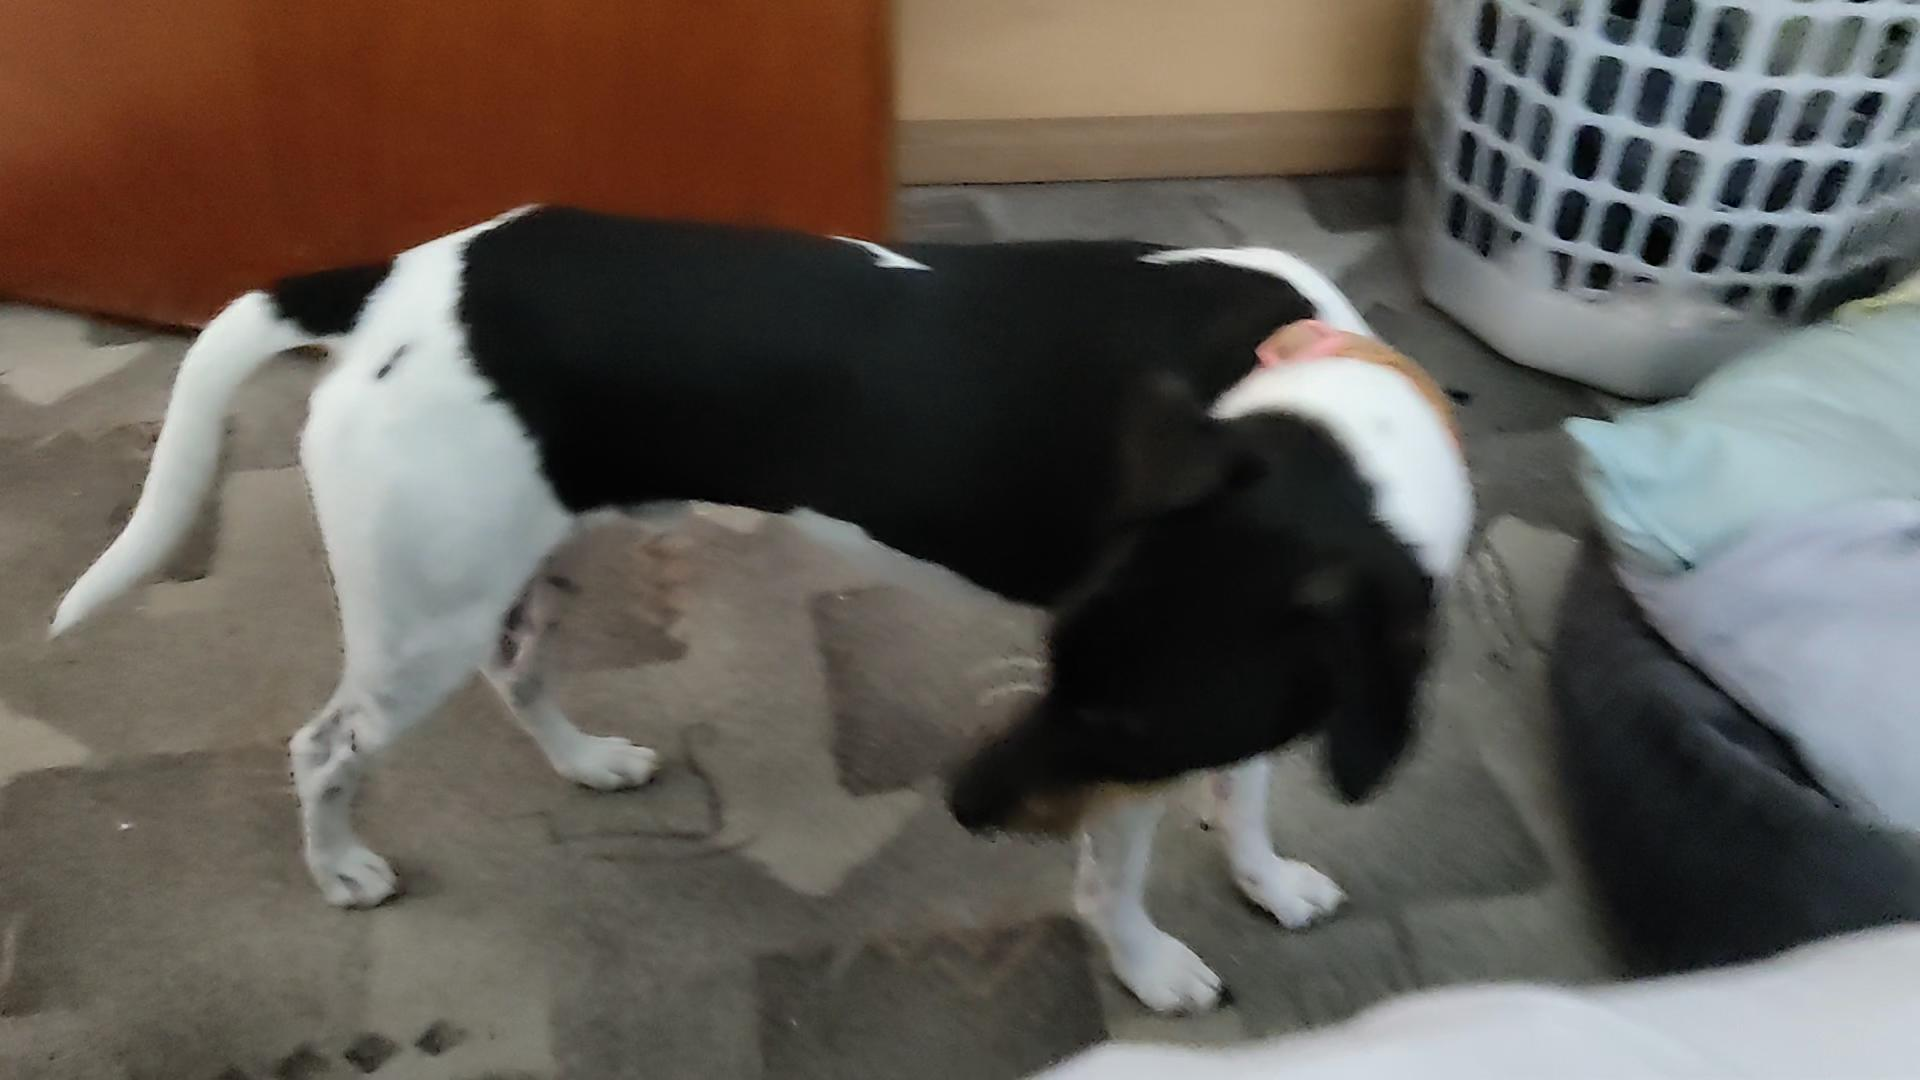Dog: (44, 194, 1490, 1021)
